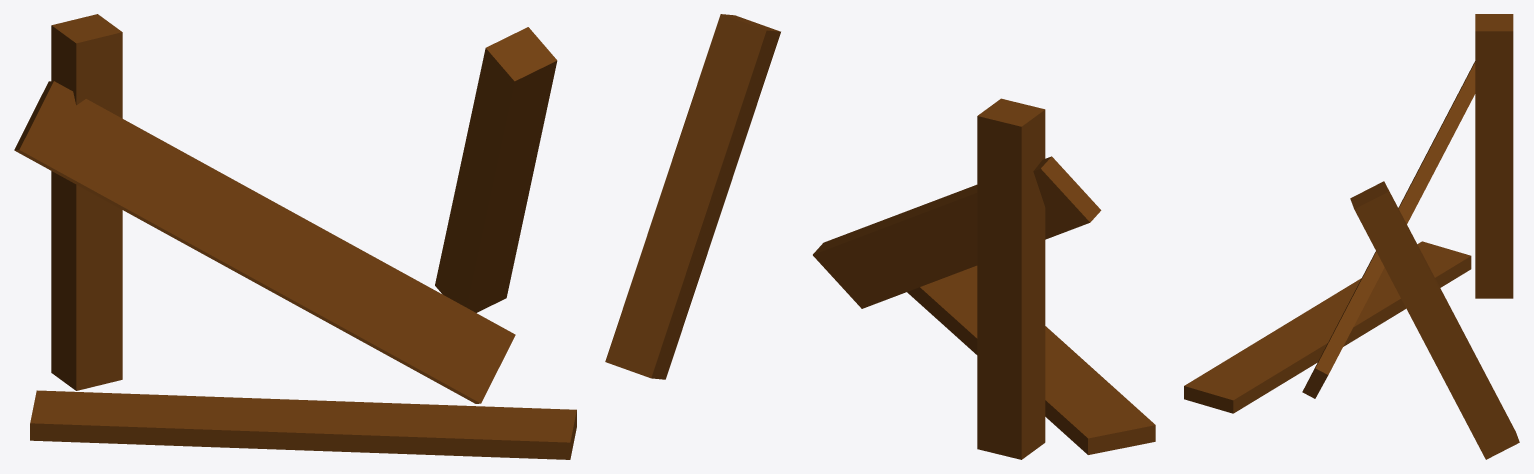
Rendered from fence2.fbx.
3 renders of one model, left to right at view 1: azimuth 30°, elevation 25°; view 2: azimuth 150°, elevation 25°; view 3: azimuth 270°, elevation 25°, orthographic. The views are drawn at different scales.
Parts seen in each view (by area): view 1: Plane, Plane.001, Cube, Cube.001; view 2: Cube, Cube.001, Plane, Plane.001; view 3: Cube.001, Plane.001, Cube, Plane.
Part boxes in pixels (x1,y1,x2,y2): Plane: (14,81,515,403); Plane.001: (30,390,576,459); Cube: (51,14,122,390); Cube.001: (435,27,557,312); Cube: (977,98,1045,459); Cube.001: (605,14,780,379); Plane: (813,156,1101,308); Plane.001: (907,265,1155,454); Cube.001: (1350,181,1519,459); Plane.001: (1184,241,1471,413); Cube: (1475,14,1513,298); Plane: (1302,61,1475,398).
Bounding box in the file's own units: 312 × 215 × 228.
